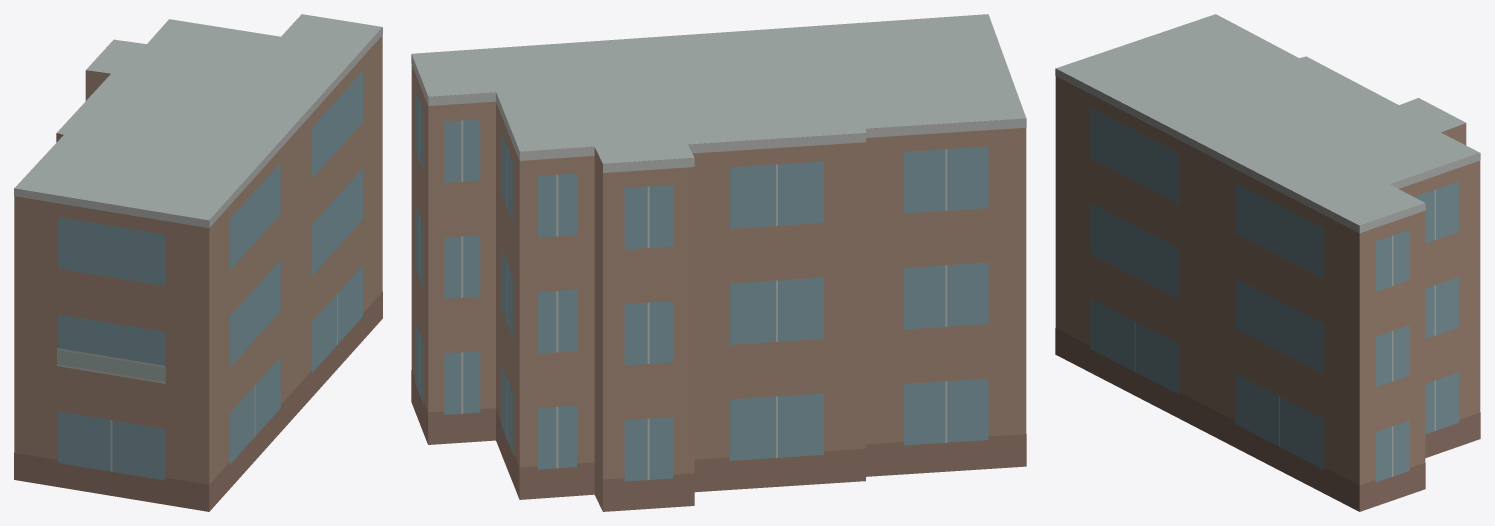
File: survey-upis-33014942.glb
3 renders of one model, left to right at view 1: azimuth 30°, elevation 25°; view 2: azimuth 150°, elevation 25°; view 3: azimuth 270°, elevation 25°, orthographic. The views are drawn at different scales.
Parts seen in each view (by area): view 1: survey-upis-33014942.tmp; view 2: survey-upis-33014942.tmp; view 3: survey-upis-33014942.tmp.
Boxes of the visible parts, x1,y1,x2,y2 form: survey-upis-33014942.tmp: [14, 14, 382, 511]; survey-upis-33014942.tmp: [411, 14, 1026, 511]; survey-upis-33014942.tmp: [1055, 14, 1480, 511].
Size of the model in its own units: 14.52 by 9.15 by 12.32.
